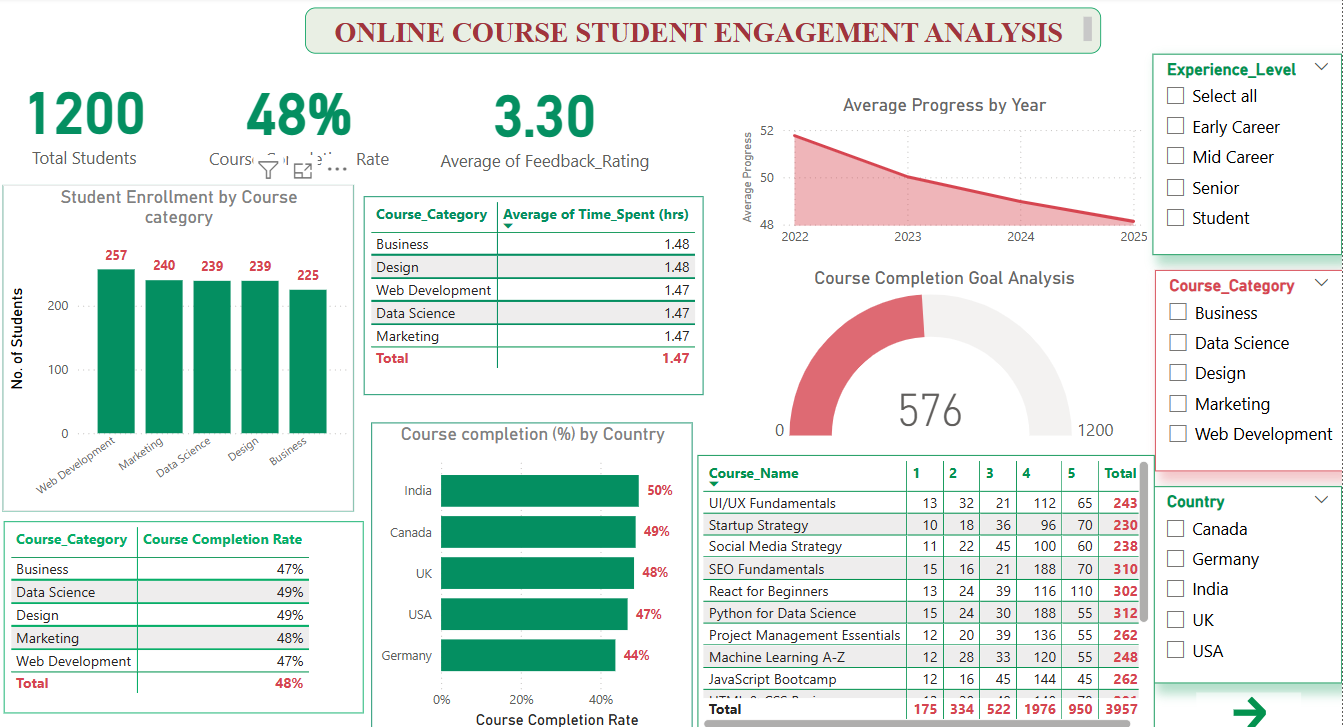

Layout of this report page (visuals, bound fields, positions):
{"tool":"powerbi","page":{"name":"Overview Page","canvas":[1280,720],"ordinal":0},"visuals":[{"type":"gauge","title":"Course Completion Goal Analysis","fields":{"Y":["Cleaned_online_course_student_d.Course Completion Rate"]},"box":[702.1,274.2,396.9,170.5],"z":0},{"type":"card","fields":{"Values":["Cleaned_online_course_student_d.Completion Percentage"]},"box":[171,73.3,229.7,118.5],"z":1000},{"type":"card","fields":{"Values":["Avg(Cleaned_online_course_student_d.Feedback_Rating)"]},"box":[408.9,73.9,221.7,119.2],"z":2000},{"type":"card","fields":{"Values":["Cleaned_online_course_student_d.Total Students"]},"box":[0,67.9,160.9,125.2],"z":3000},{"type":"areaChart","title":"Average Progress by Year","fields":{"Category":["Cleaned_online_course_student_d.Enrollment_Date.Variation.Date Hierarchy.Year"],"Y":["Avg(Cleaned_online_course_student_d.Progress (%))"]},"box":[702.1,108.5,396.9,155],"z":4000},{"type":"slicer","fields":{"Values":["Cleaned_online_course_student_d.Experience_Level"]},"box":[1098.8,70.3,181.2,191.9],"z":5000},{"type":"slicer","fields":{"Values":["Cleaned_online_course_student_d.Course_Category"]},"box":[1101.2,276.6,178.8,191.9],"z":6000},{"type":"slicer","fields":{"Values":["Cleaned_online_course_student_d.Country"]},"box":[1098.8,482.8,181.2,188.3],"z":7000},{"type":"clusteredColumnChart","title":"Student Enrollment by Course category","fields":{"Y":["CountNonNull(Cleaned_online_course_student_d.Student_ID)"],"Category":["Cleaned_online_course_student_d.Course_Category"]},"box":[2.4,195.5,335,311.1],"z":8000},{"type":"clusteredBarChart","title":"Course completion (%) by Country","fields":{"Category":["Cleaned_online_course_student_d.Country"],"Y":["Cleaned_online_course_student_d.Course Completion Percentage"]},"box":[354.3,421.5,306.6,298.1],"z":9000},{"type":"tableEx","fields":{"Values":["Cleaned_online_course_student_d.Course_Category","Cleaned_online_course_student_d.Completion Percentage"]},"box":[3.6,516.1,343.3,183.6],"z":10000},{"type":"tableEx","fields":{"Values":["Cleaned_online_course_student_d.Course_Category","Avg(Cleaned_online_course_student_d.Time_Spent (hrs))"]},"box":[346.9,206.2,324.2,189.5],"z":11000},{"type":"pivotTable","fields":{"Rows":["Cleaned_online_course_student_d.Course_Name"],"Columns":["Cleaned_online_course_student_d.Feedback_Rating"],"Values":["Sum(Cleaned_online_course_student_d.Feedback_Rating)"]},"box":[665.2,453,436.3,267],"z":12000},{"type":"actionButton","box":[1140.8,679.5,100.1,40.5],"z":13000},{"type":"textbox","box":[290.9,26.2,759.3,44.1],"z":14000}]}

Visuals, with their boxes on the page's 1280x720 design canvas (x1, y1, x2, y2). These are canvas units, not pixel positions in the 1343x727 screenshot, which may show the page scaled, cropped or inside an application window:
"Course Completion Goal Analysis" gauge: BBox(702, 274, 1099, 445)
card - Cleaned_online_course_student_d.Completion Percentage: BBox(171, 73, 401, 192)
card - Avg(Cleaned_online_course_student_d.Feedback_Rating): BBox(409, 74, 631, 193)
card - Cleaned_online_course_student_d.Total Students: BBox(0, 68, 161, 193)
"Average Progress by Year" areaChart: BBox(702, 108, 1099, 264)
slicer - Cleaned_online_course_student_d.Experience_Level: BBox(1099, 70, 1280, 262)
slicer - Cleaned_online_course_student_d.Course_Category: BBox(1101, 277, 1280, 468)
slicer - Cleaned_online_course_student_d.Country: BBox(1099, 483, 1280, 671)
"Student Enrollment by Course category" clusteredColumnChart: BBox(2, 196, 337, 507)
"Course completion (%) by Country" clusteredBarChart: BBox(354, 422, 661, 720)
tableEx - Cleaned_online_course_student_d.Course_Category x Cleaned_online_course_student_d.Completion Percentage: BBox(4, 516, 347, 700)
tableEx - Cleaned_online_course_student_d.Course_Category x Avg(Cleaned_online_course_student_d.Time_Spent (hrs)): BBox(347, 206, 671, 396)
pivotTable - Cleaned_online_course_student_d.Course_Name x Cleaned_online_course_student_d.Feedback_Rating: BBox(665, 453, 1102, 720)
actionButton: BBox(1141, 680, 1241, 720)
textbox: BBox(291, 26, 1050, 70)
